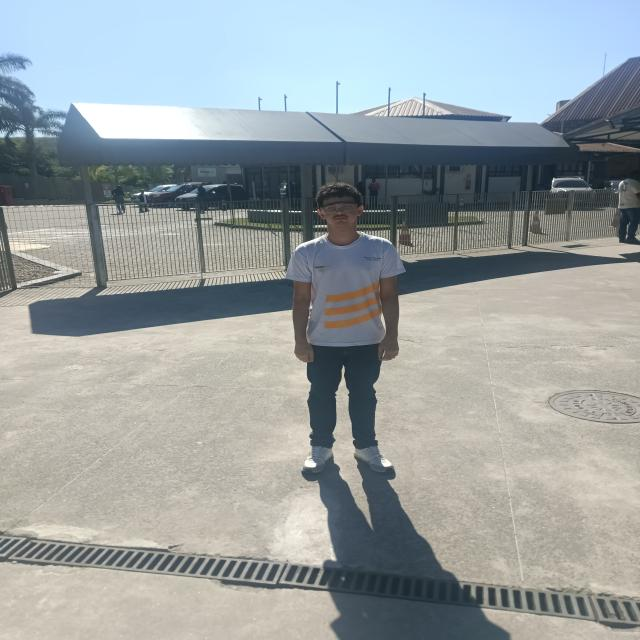oculos-epi: (320, 201, 358, 215)
